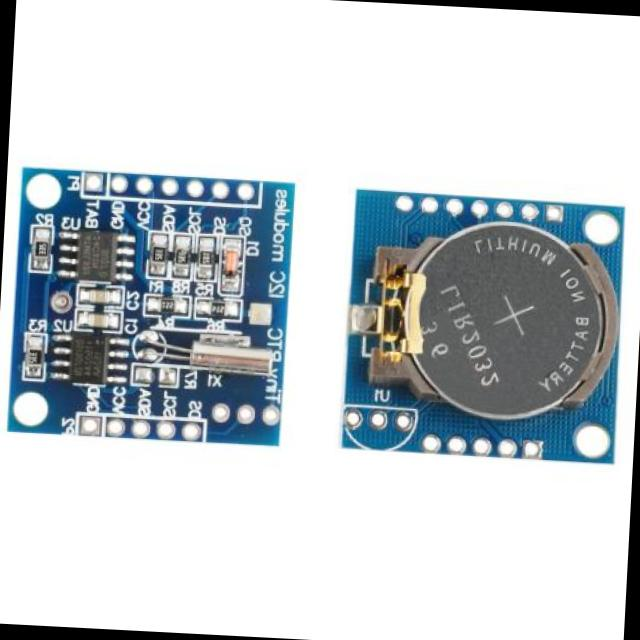IC: (68, 222, 123, 286), (65, 329, 114, 384)
capacitor: (72, 310, 116, 331), (82, 290, 112, 308)
diode: (222, 242, 242, 285)
resistor: (17, 333, 48, 384), (30, 225, 51, 278), (148, 238, 168, 278), (146, 294, 183, 314), (206, 300, 238, 322), (197, 240, 213, 280), (174, 240, 188, 278)
